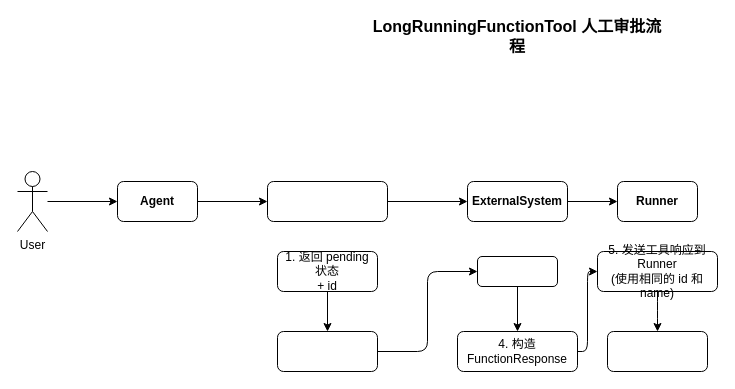
This 735x389 diagram has some shape labels left out. The centre of each missing label's shape, as x and y in pixels:
"10. 返回最终结果" goes at (657,351).
"2. 通知等待" goes at (327,351).
"3. 人工处理" goes at (517,271).
"LongRunningTool" goes at (327,201).
